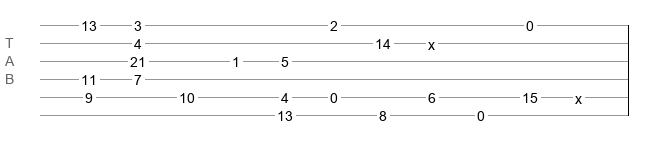0: (330, 90, 338, 100), (477, 108, 485, 118), (526, 18, 534, 28)
1: (232, 54, 240, 64)
10: (179, 90, 195, 100)
11: (81, 72, 97, 82)
13: (81, 18, 97, 28), (277, 108, 293, 118)
14: (375, 36, 391, 46)
15: (522, 90, 538, 100)
2: (330, 18, 338, 28)
21: (130, 54, 146, 64)
3: (134, 18, 142, 28)
4: (134, 36, 142, 46), (281, 90, 289, 100)
5: (281, 54, 289, 64)
6: (428, 90, 436, 100)
7: (134, 72, 142, 82)
8: (379, 108, 387, 118)
9: (85, 90, 93, 100)
x: (428, 37, 435, 45), (575, 91, 582, 99)
